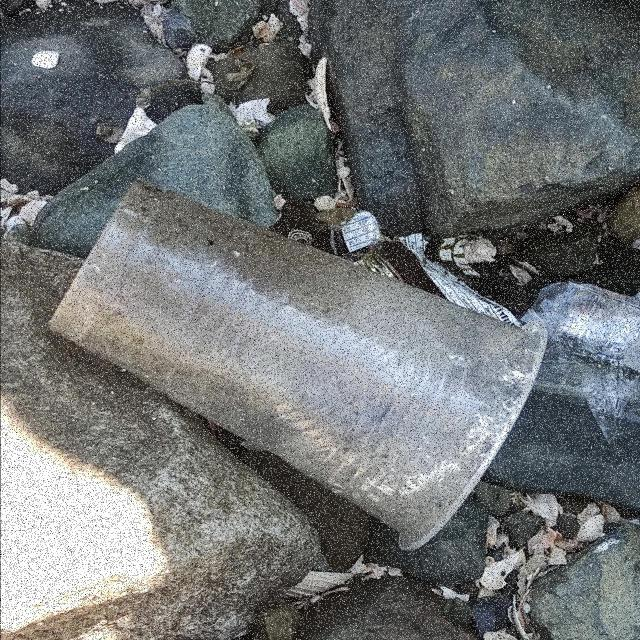plastic_waste: (47, 177, 552, 555)
